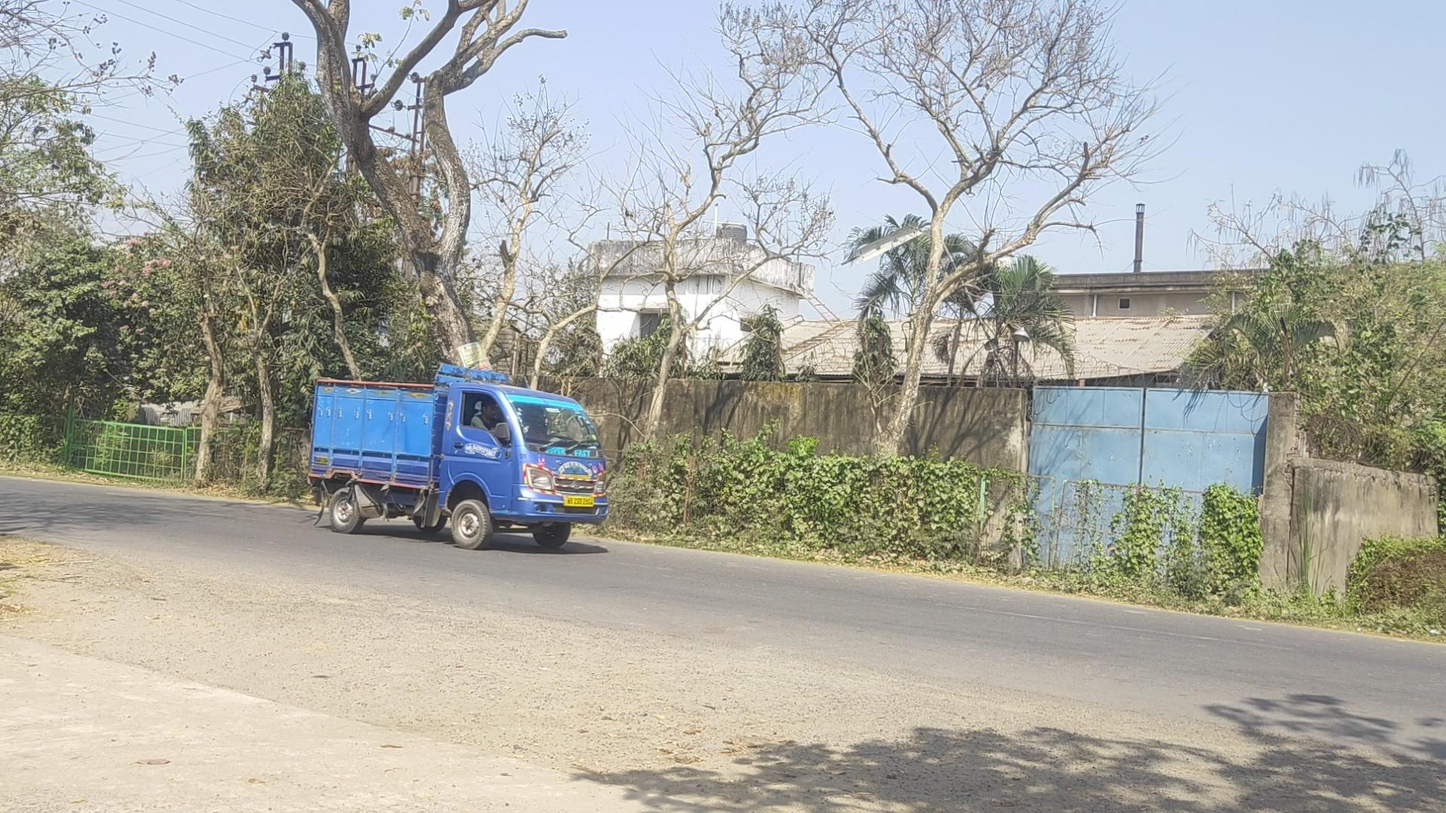van: (306, 362, 609, 551)
